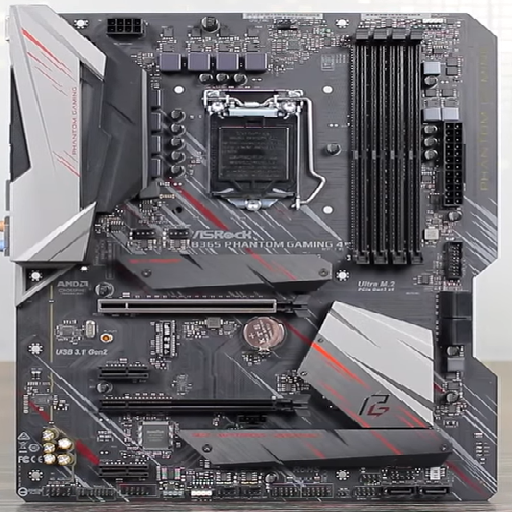CPU: (196, 84, 335, 216)
GPU: (91, 284, 317, 328), (97, 386, 313, 427)
MOTHERBOARD: (6, 7, 512, 508)
RAM: (340, 25, 433, 276)
SSD: (146, 317, 186, 359)
